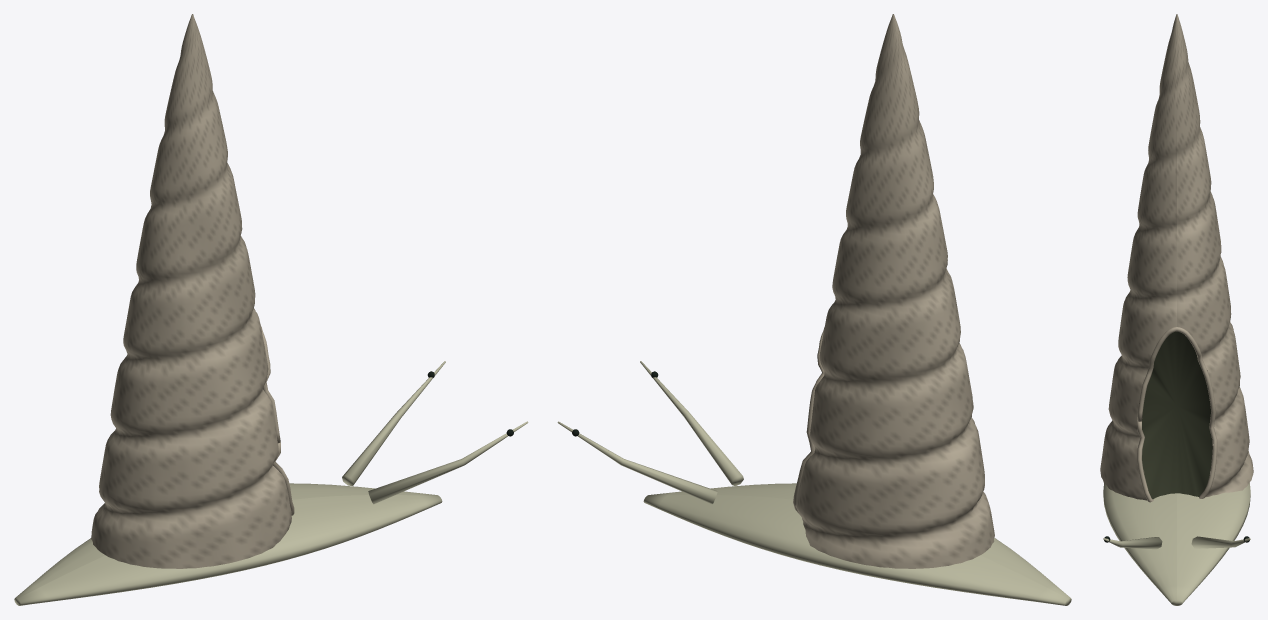
File: cerith-desktop.glb
The picture shows the model from 3 angles, left to right: view 1: azimuth 30°, elevation 25°; view 2: azimuth 150°, elevation 25°; view 3: azimuth 270°, elevation 25°; orthographic projection. The views are drawn at different scales.
Parts seen in each view (by area): view 1: connected-whorled-shell, muscular-foot, cephalic-tentacle, aperture-lip; view 2: connected-whorled-shell, muscular-foot, cephalic-tentacle, aperture-lip; view 3: connected-whorled-shell, muscular-foot, recessed-aperture, aperture-lip, cephalic-tentacle.
Part boxes in pixels (box(x1,y1,x2,y2)): connected-whorled-shell: box(91, 14, 291, 568); muscular-foot: box(14, 483, 442, 605); cephalic-tentacle: box(342, 361, 528, 504); aperture-lip: box(261, 326, 294, 515); connected-whorled-shell: box(795, 14, 994, 568); muscular-foot: box(643, 483, 1071, 605); cephalic-tentacle: box(557, 361, 743, 504); aperture-lip: box(793, 327, 824, 514); connected-whorled-shell: box(1100, 14, 1253, 500); muscular-foot: box(1103, 482, 1250, 605); recessed-aperture: box(1142, 331, 1212, 499); aperture-lip: box(1137, 327, 1217, 502); cephalic-tentacle: box(1103, 536, 1250, 549).
Bounding box in the file's own units: 0.5905 × 0.659 × 0.1885.
